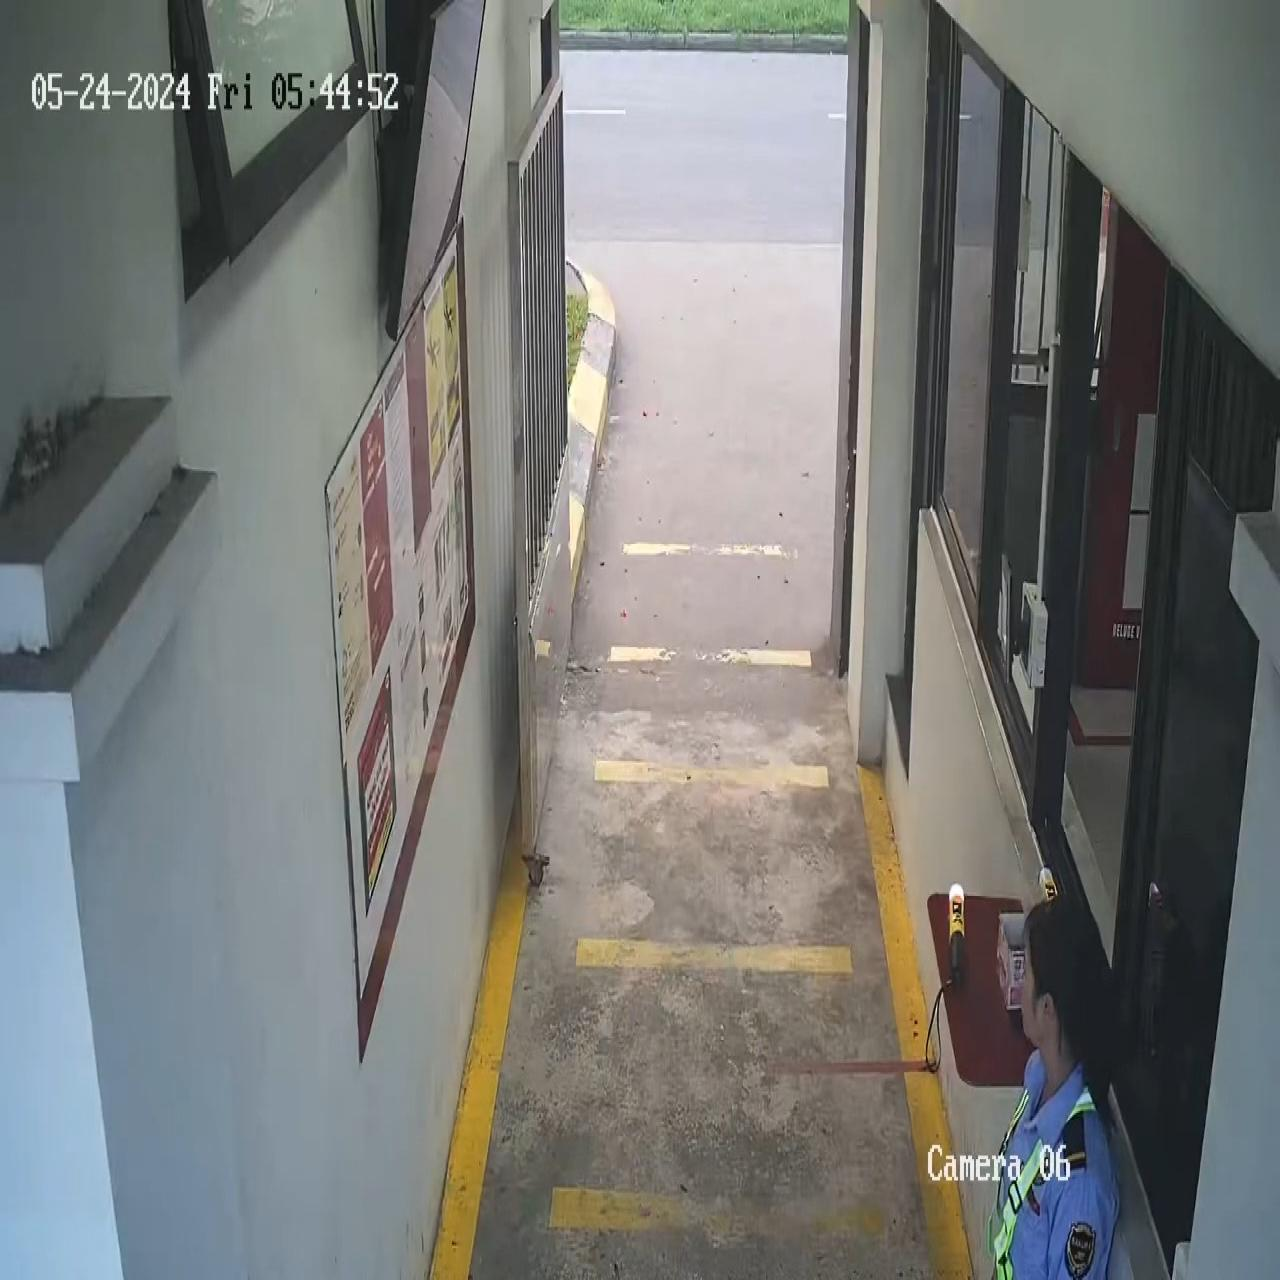breathalyzer: (937, 872, 978, 1012), (1035, 855, 1065, 911)
guard: (985, 888, 1122, 1276)
